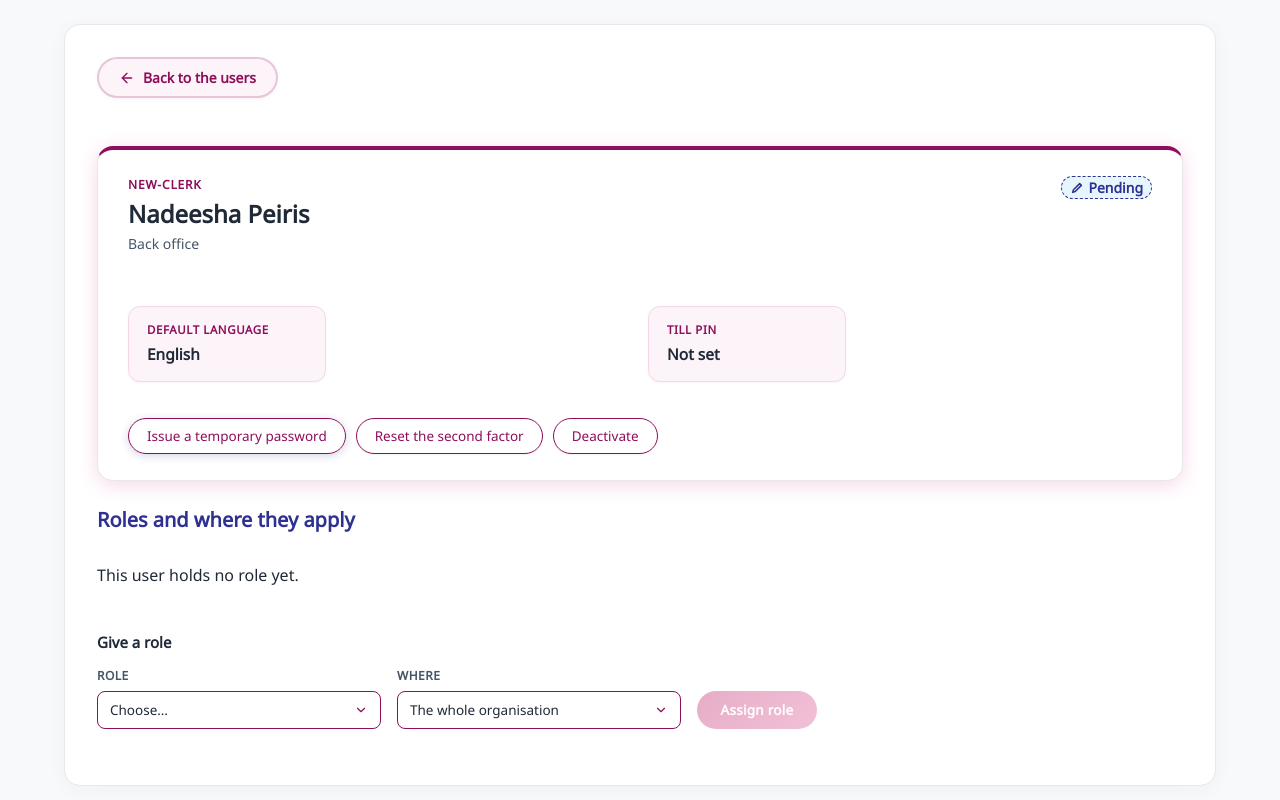
Test: the user card › shows a separation-of-duties refusal plainly, in the server's words
This screenshot has width=1280, height=800.
Select "Demo: accounts" in the dropdown labelled "Role" at [239, 710], box 97,691 -> 381,729
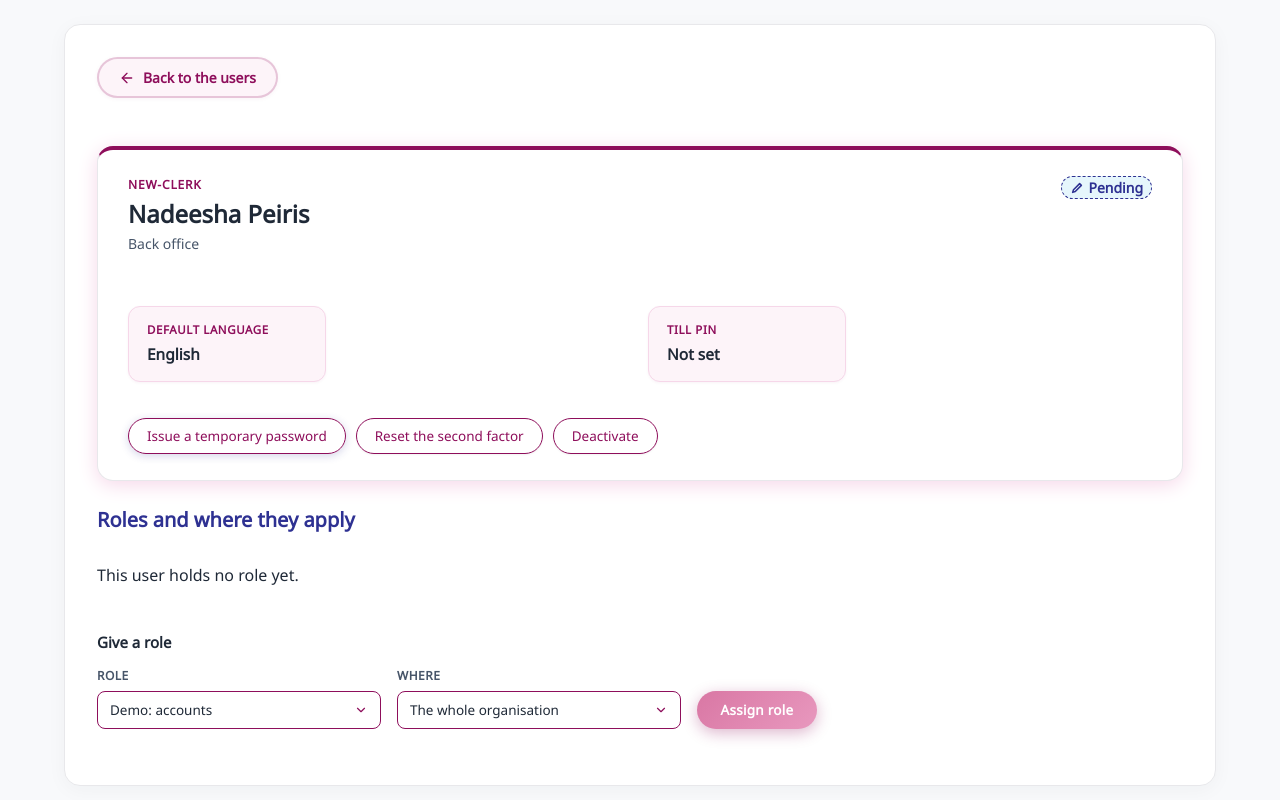
Click the button "Assign role" at [757, 710], box 697,691 -> 817,729
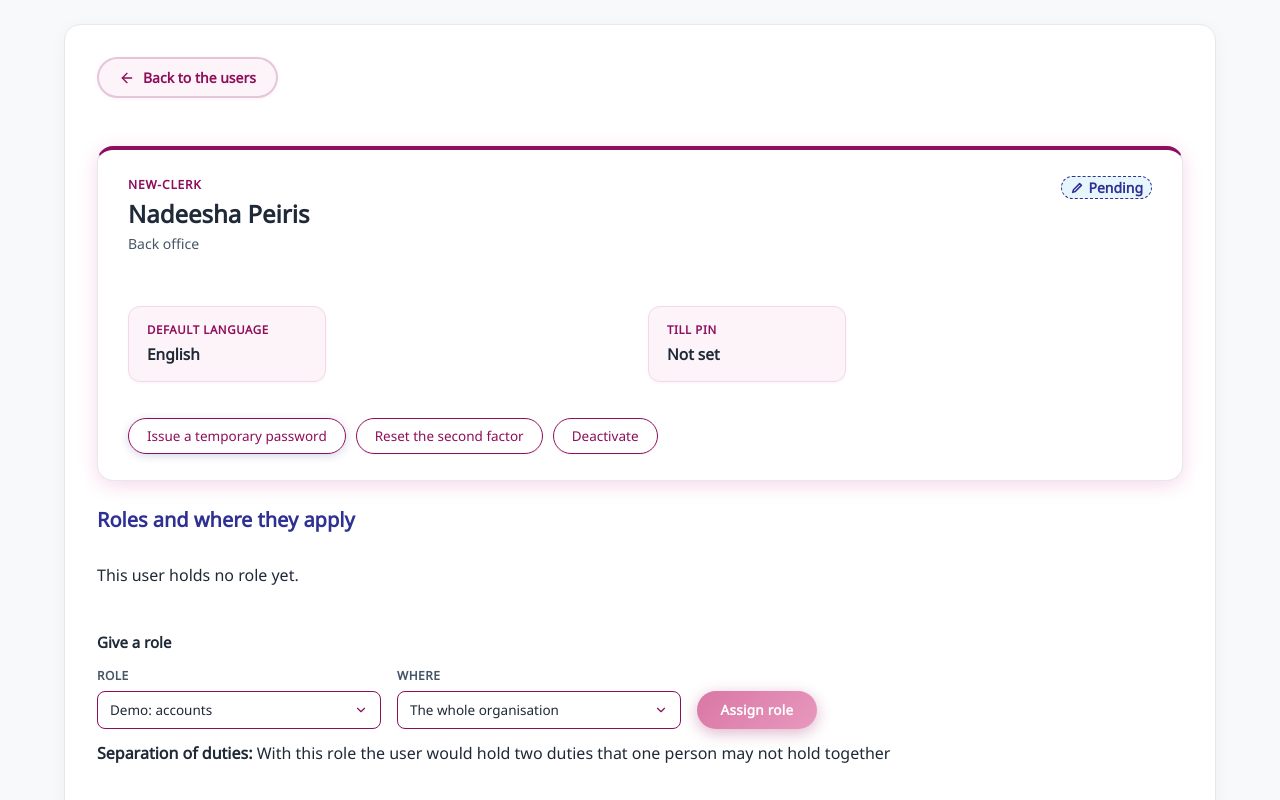
Result: the message shows "Separation of duties:" at 97,742 -> 252,764
Result: the message shows "two duties that one person may not hold together" at 257,742 -> 890,764
